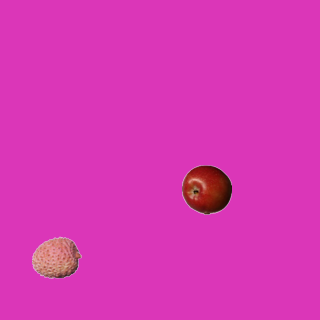Apple Braeburn: (181, 164, 231, 214)
Lychee: (31, 232, 81, 282)
